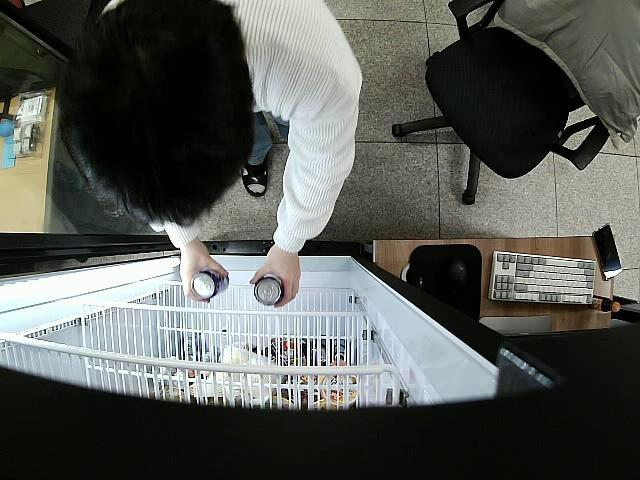14_welchsGrape: (190, 268, 230, 299), (253, 272, 282, 306)
